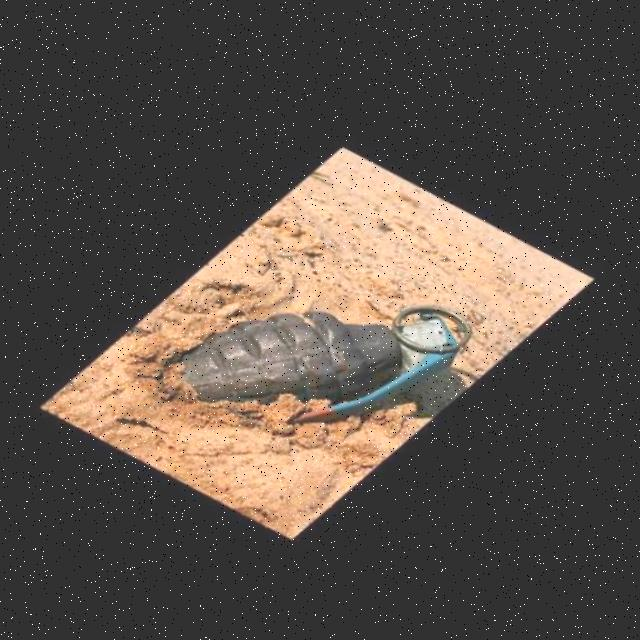grenade: (141, 269, 495, 451)
